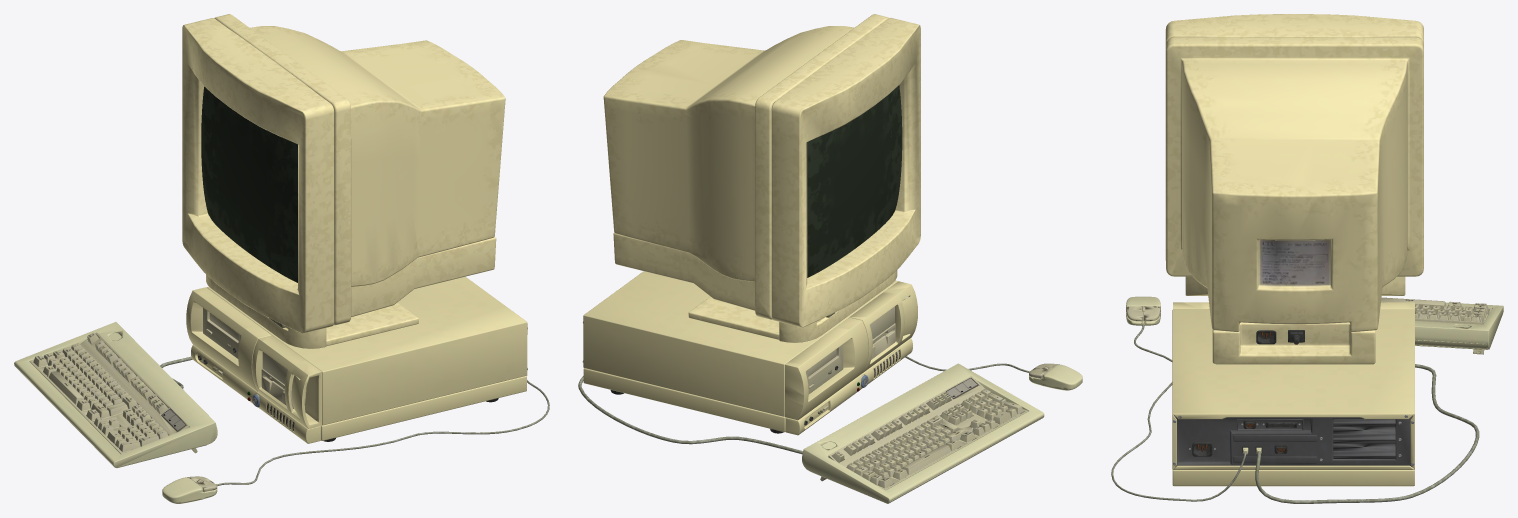
File: computer.glb
3 renders of one model, left to right at view 1: azimuth 30°, elevation 25°; view 2: azimuth 150°, elevation 25°; view 3: azimuth 270°, elevation 25°, orthographic. The views are drawn at different scales.
Parts seen in each view (by area): view 1: monik2_Material.018_0, bloc2_Material.017_0, keyboard2_Material.021_0, Keycaps2_Material.022_0; view 2: monik2_Material.018_0, bloc2_Material.017_0, keyboard2_Material.021_0, Keycaps2_Material.022_0; view 3: monik2_Material.018_0, bloc2_Material.017_0, panel2_Material.020_0, keyboard2_Material.021_0, object 6, Keycaps2_Material.022_0.
Part boxes in pixels (box(x1,y1,x2,y2)): monik2_Material.018_0: box(182, 14, 505, 348); bloc2_Material.017_0: box(186, 276, 527, 443); keyboard2_Material.021_0: box(14, 322, 549, 503); Keycaps2_Material.022_0: box(33, 332, 168, 452); monik2_Material.018_0: box(603, 14, 920, 342); bloc2_Material.017_0: box(583, 271, 917, 435); keyboard2_Material.021_0: box(578, 356, 1082, 503); Keycaps2_Material.022_0: box(832, 389, 1023, 488); monik2_Material.018_0: box(1165, 14, 1423, 364); bloc2_Material.017_0: box(1172, 302, 1414, 486); panel2_Material.020_0: box(1174, 415, 1412, 467); keyboard2_Material.021_0: box(1111, 296, 1503, 503); object 6: box(1173, 330, 1414, 465); Keycaps2_Material.022_0: box(1381, 297, 1488, 322).
Size of the model in its own units: 0.9638 by 0.7723 by 0.7633.
Materials: 6 (6 with a texture image).
